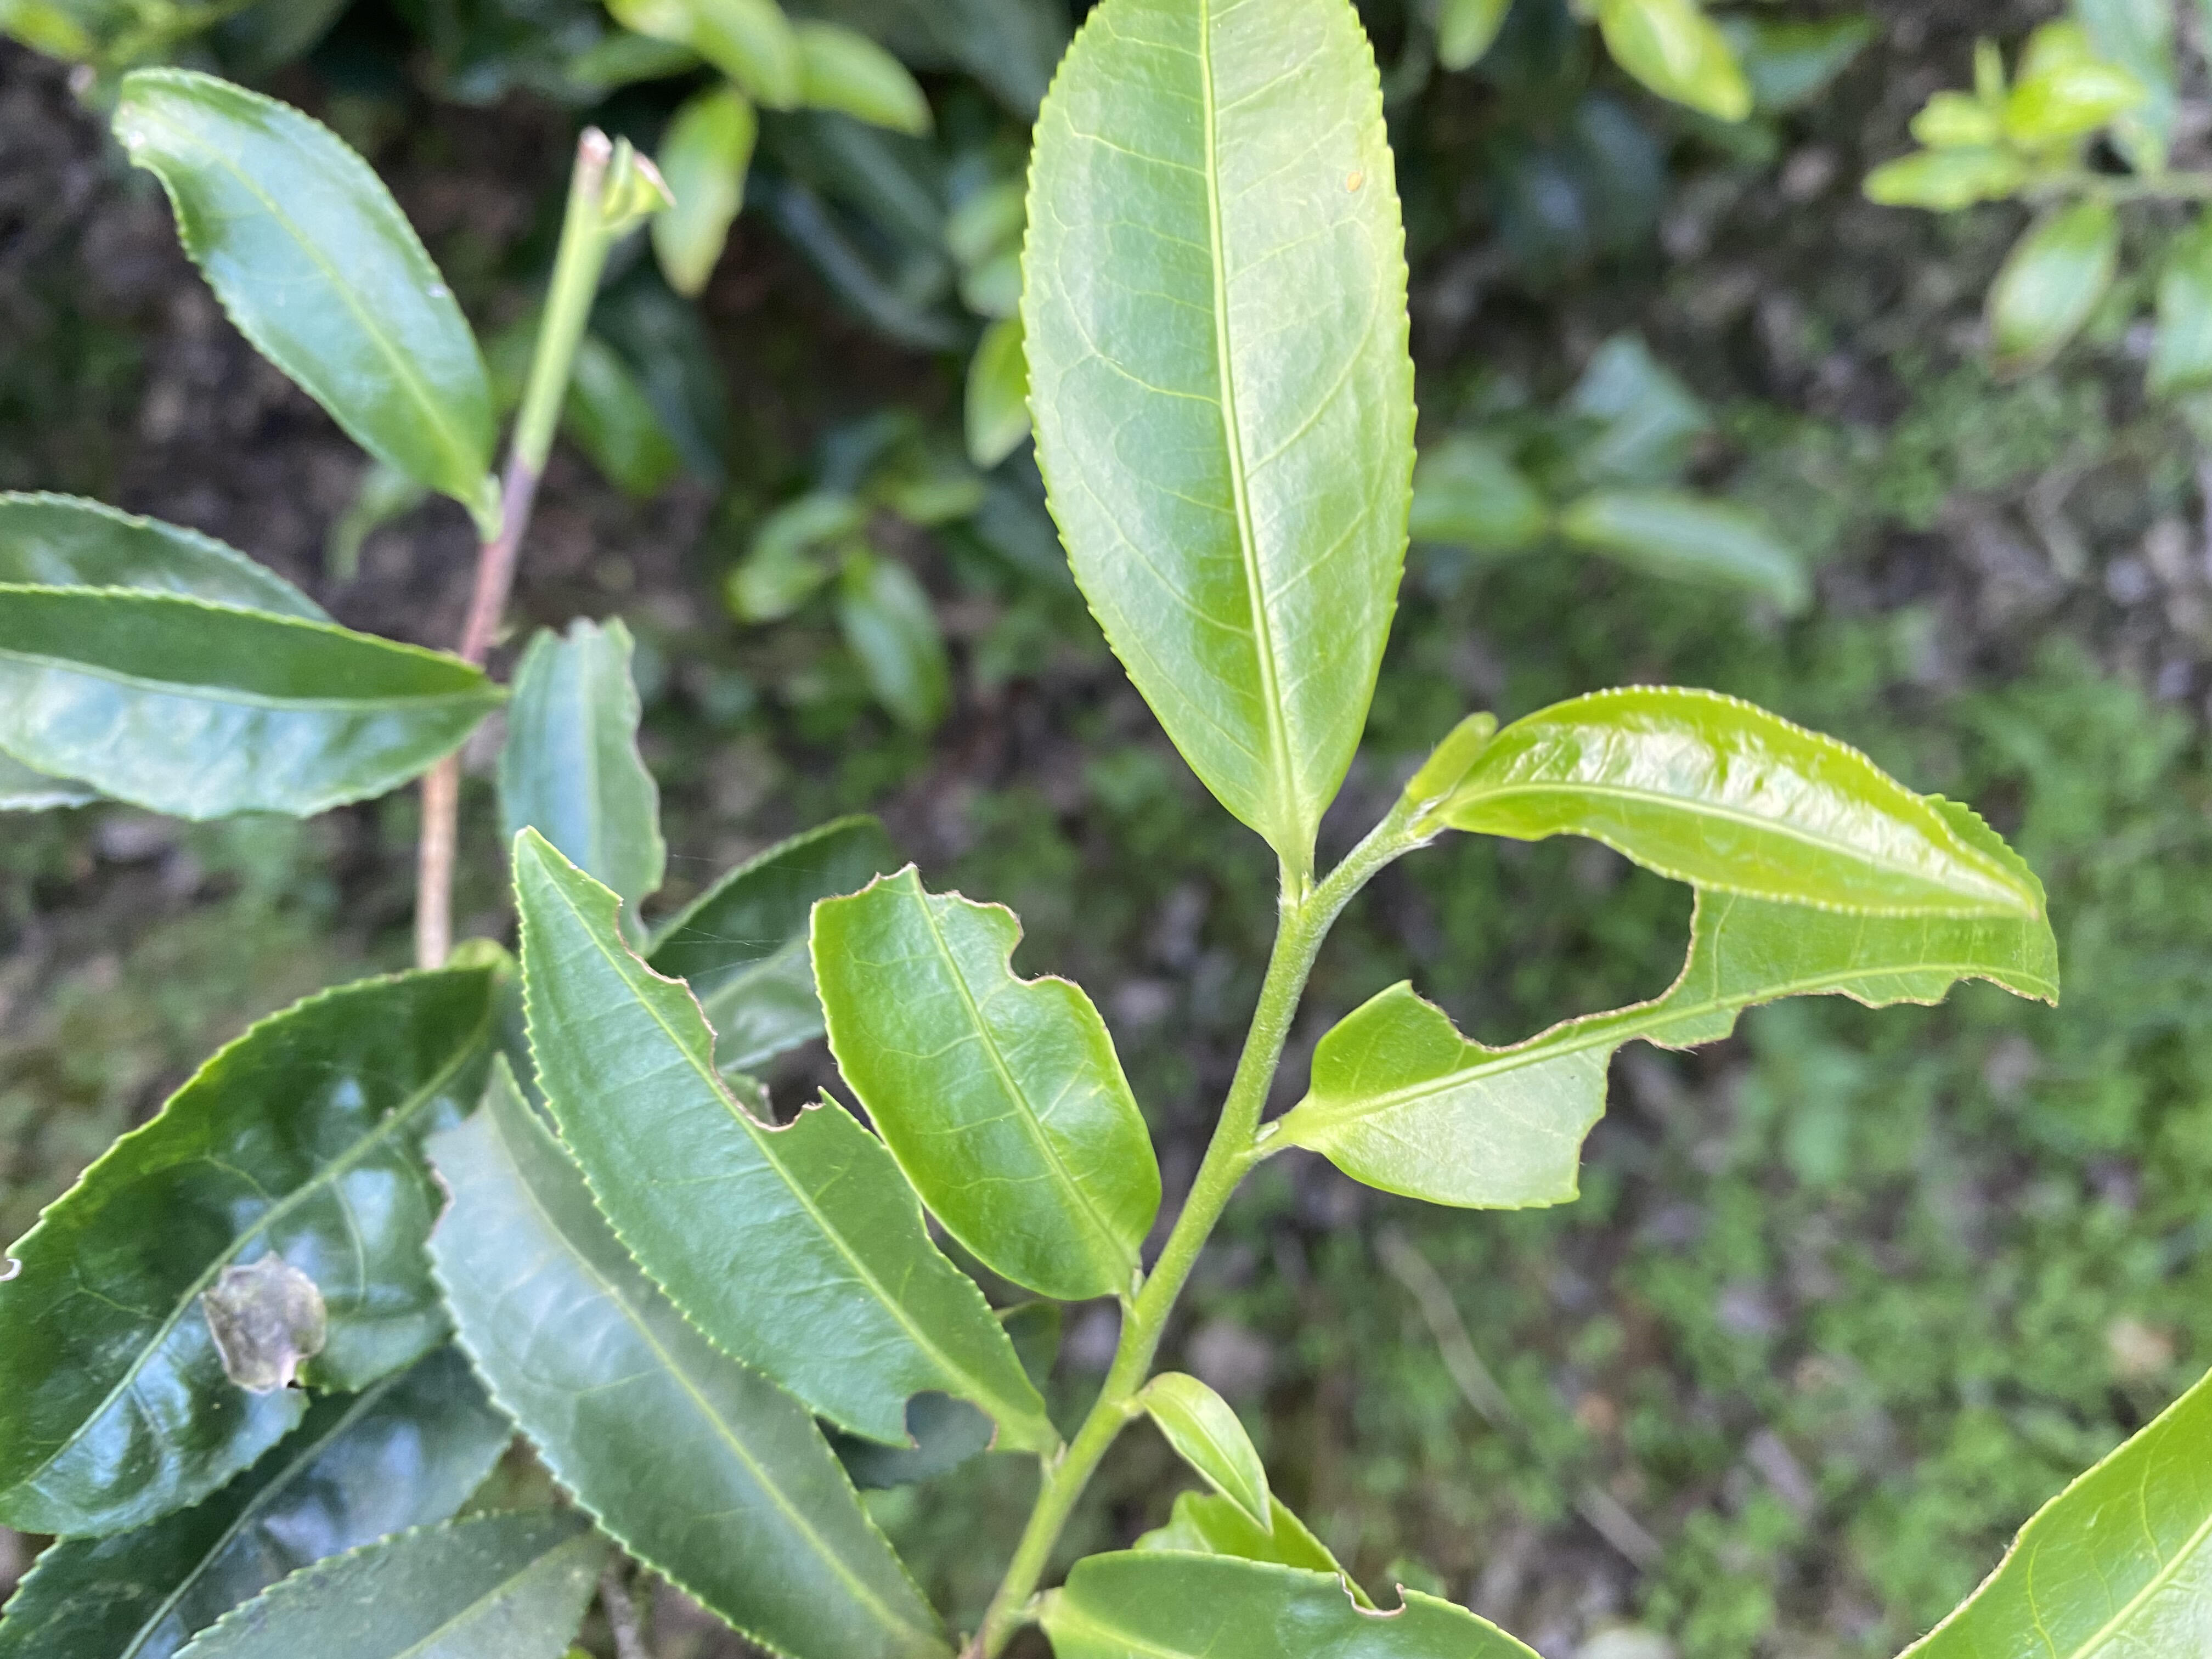chihuo_high: (509, 828, 1049, 1460), (1310, 789, 2064, 1218), (806, 861, 1163, 1304), (496, 608, 667, 953)
chihuo_low: (423, 1053, 956, 1659), (1446, 678, 2040, 924), (1045, 1547, 1541, 1659)
healthy: (1015, 3, 1426, 854), (106, 66, 503, 497), (5, 582, 503, 824)
tanju_high: (2, 958, 495, 1544)
